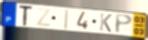4: (76, 11, 90, 31)
I: (63, 8, 71, 30)
K: (99, 12, 113, 34)
P: (114, 13, 134, 35)
T: (18, 5, 34, 27)
Z: (36, 7, 53, 28)
